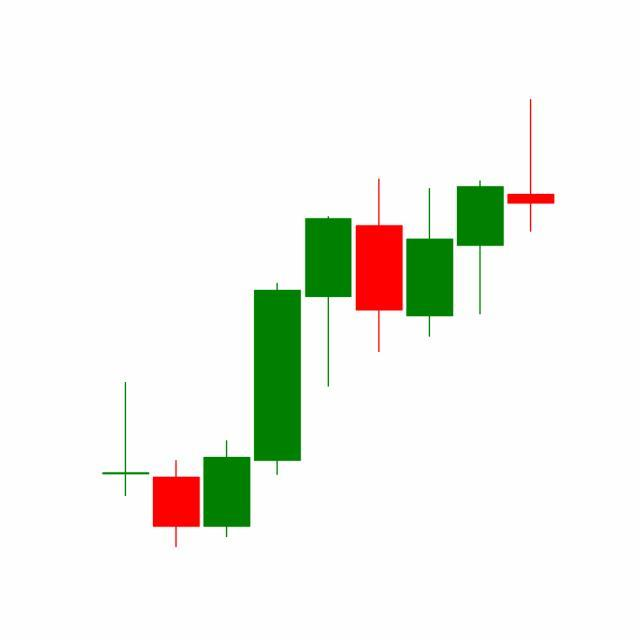Hikkake Pattern: (252, 176, 506, 480)
